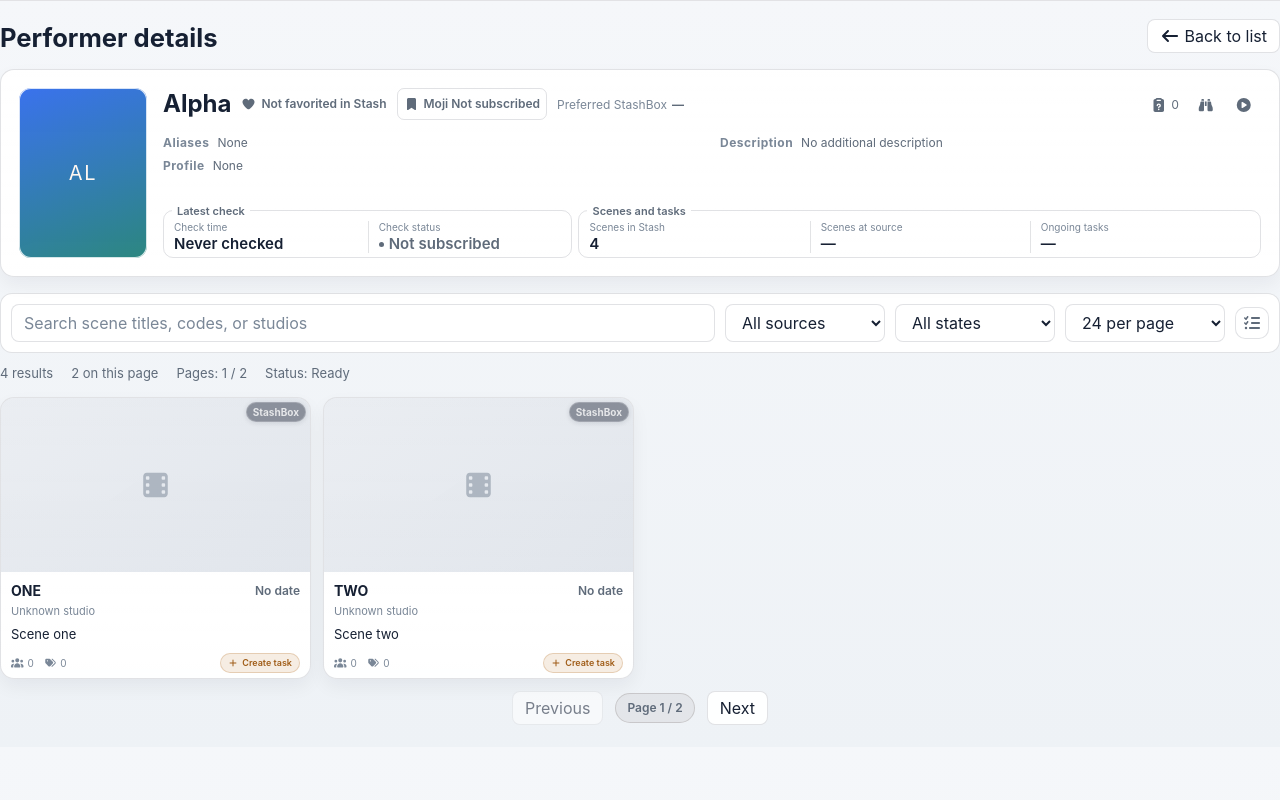
Test case: PerformersRoute mutation integration › confirms an unsubscribed actor check before submitting and leaves cancellation harmless
This screenshot has width=1280, height=800.
Click the button named "Check Alpha for updates": (1206, 105) 1189,88 -> 1223,122
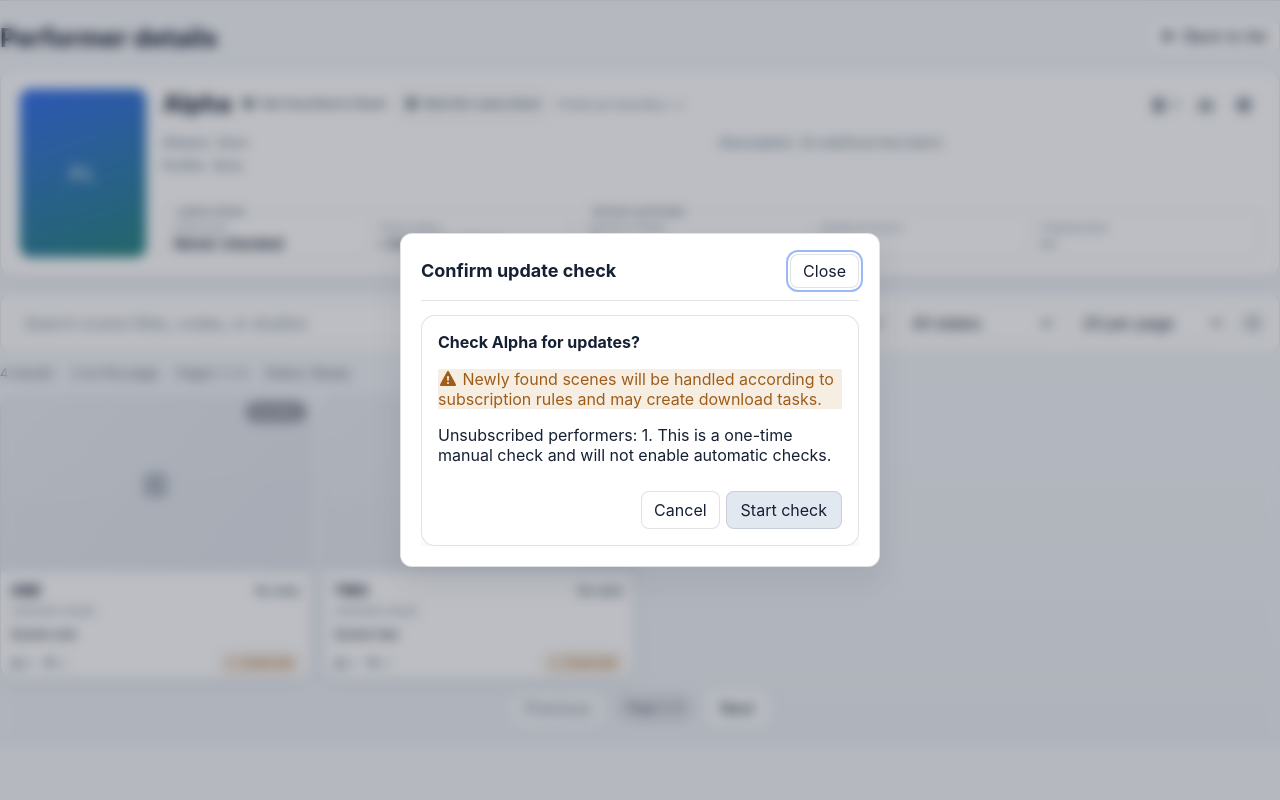
Now the heading "Check Alpha for updates?" is shown, box 438,332 -> 640,352
Now the text "one-time manual check" is shown, box 438,425 -> 831,465
Click the button "Cancel": (680, 510) 641,491 -> 720,529
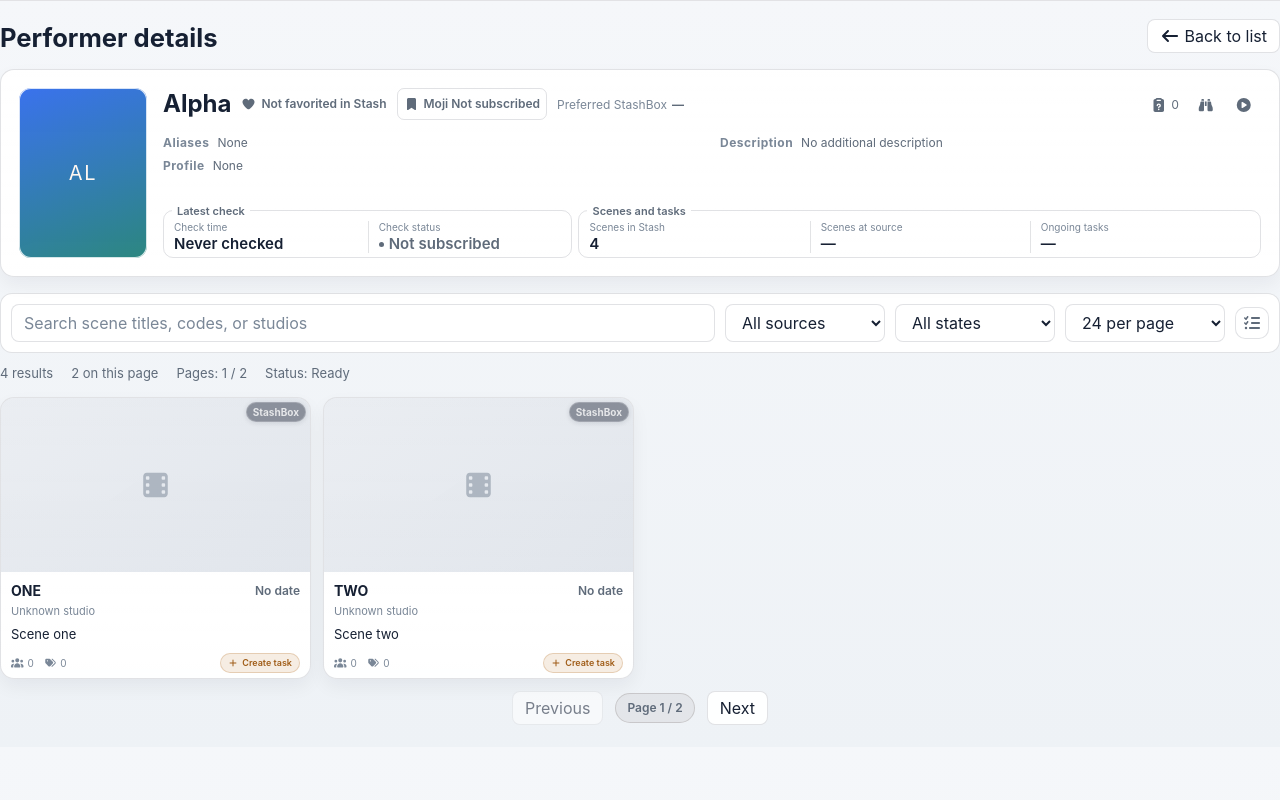
Now the dialog is gone
Click the button named "Check Alpha for updates": (1206, 105) 1189,88 -> 1223,122
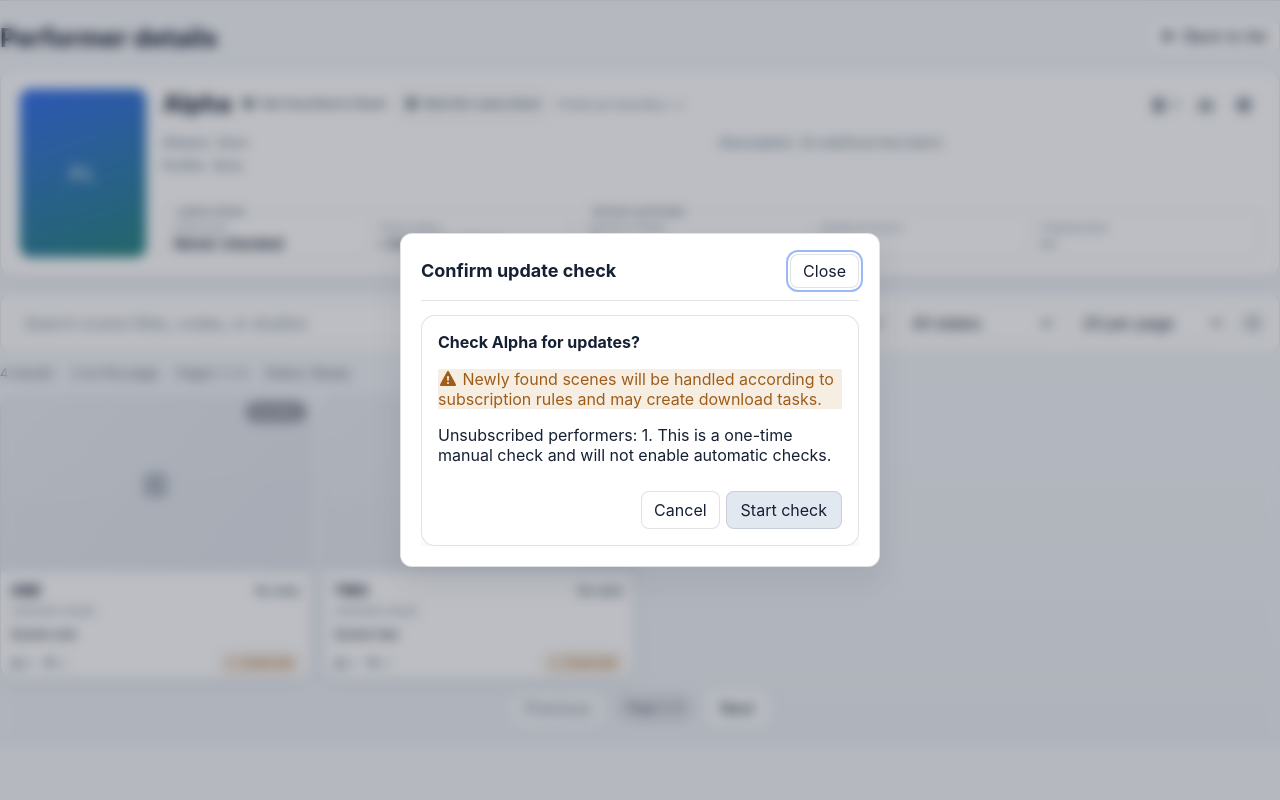
Click the button "Start check": (784, 510) 726,491 -> 842,529
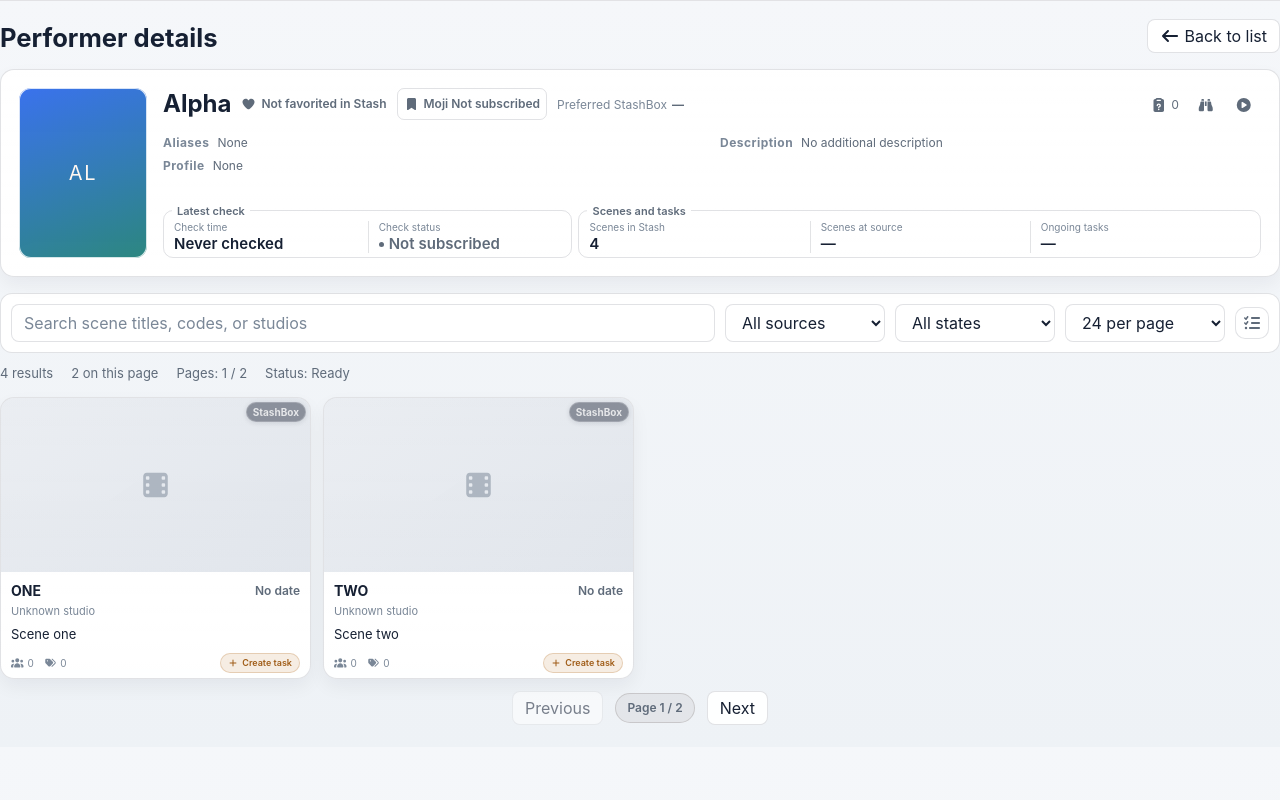
Now the dialog is gone
